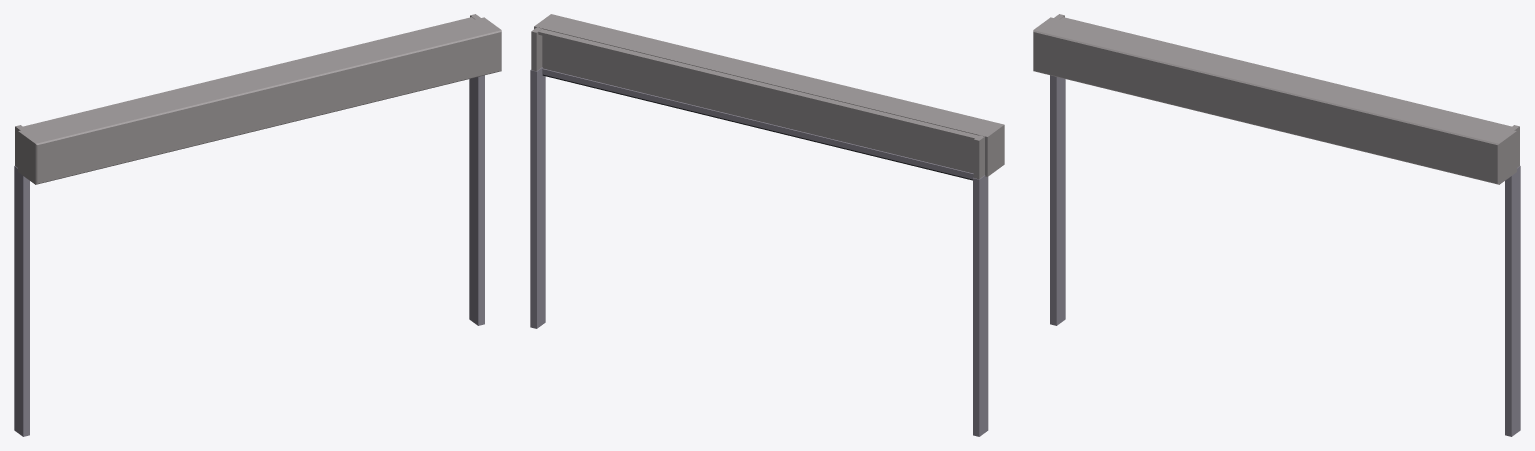
The model's file is SM_Opening_ShopShutterS39_Open_01.gltf.
The picture shows the model from 3 angles, left to right: view 1: azimuth 30°, elevation 25°; view 2: azimuth 150°, elevation 25°; view 3: azimuth 330°, elevation 25°; orthographic projection. The views are drawn at different scales.
Parts seen in each view (by area): view 1: SM_Opening_ShopShutterS39_Open_01; view 2: SM_Opening_ShopShutterS39_Open_01; view 3: SM_Opening_ShopShutterS39_Open_01.
Part boxes in pixels (x1=…): SM_Opening_ShopShutterS39_Open_01: x1=14, y1=14, x2=501, y2=436; SM_Opening_ShopShutterS39_Open_01: x1=530, y1=14, x2=1004, y2=436; SM_Opening_ShopShutterS39_Open_01: x1=1033, y1=14, x2=1520, y2=436.
Bounding box in the file's own units: 4.16 × 2.6 × 0.375.
1 material, 1 textured.
